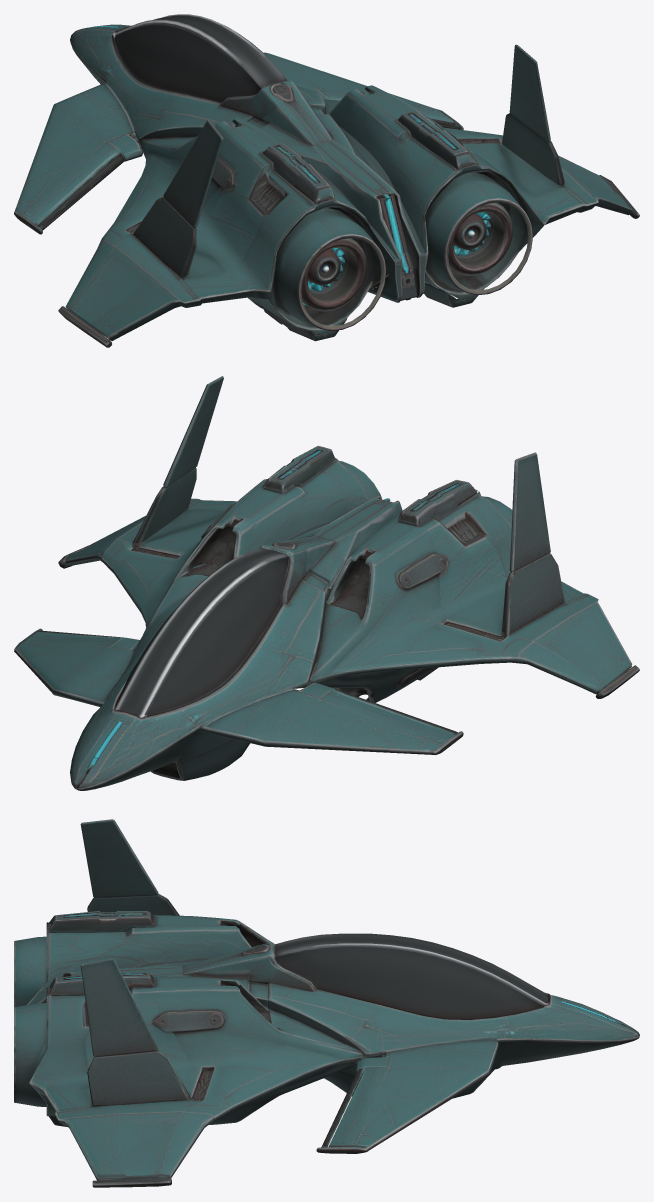
File: astra.glb
3 renders of one model, top to bottom at view 1: azimuth 30°, elevation 25°; view 2: azimuth 150°, elevation 25°; view 3: azimuth 270°, elevation 25°, orthographic. The views are drawn at different scales.
Parts seen in each view (by area): view 1: tripo_75eebb23_752d_419e_992e_514e649c0168; view 2: tripo_75eebb23_752d_419e_992e_514e649c0168; view 3: tripo_75eebb23_752d_419e_992e_514e649c0168.
Part boxes in pixels (x1,y1,x2,y2): tripo_75eebb23_752d_419e_992e_514e649c0168: [14, 14, 639, 347]; tripo_75eebb23_752d_419e_992e_514e649c0168: [14, 376, 639, 790]; tripo_75eebb23_752d_419e_992e_514e649c0168: [14, 819, 639, 1187].
Bounding box in the file's own units: 0.9351 × 0.3755 × 0.9995.
Materials: 1 (1 with a texture image).
